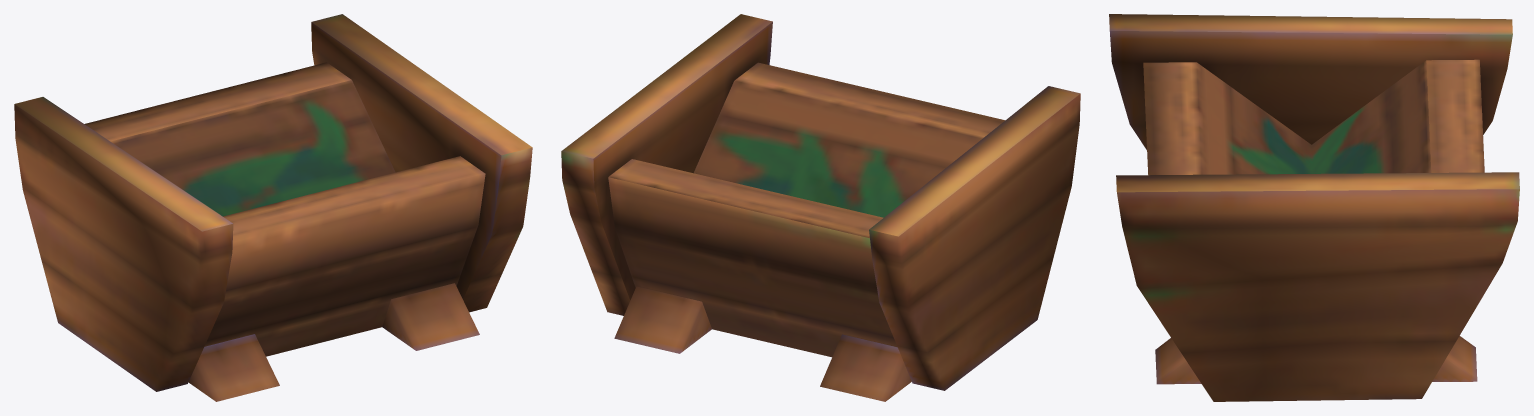
3 renders of one model, left to right at view 1: azimuth 30°, elevation 25°; view 2: azimuth 150°, elevation 25°; view 3: azimuth 270°, elevation 25°, orthographic. The views are drawn at different scales.
Parts seen in each view (by area): view 1: zc_5_10; view 2: zc_5_10; view 3: zc_5_10.
Part boxes in pixels (left/top/right/bottom): zc_5_10: left=14, top=14, right=532, bottom=401; zc_5_10: left=561, top=14, right=1080, bottom=401; zc_5_10: left=1109, top=14, right=1519, bottom=401.
Size of the model in its own units: 154 by 83.38 by 148.
